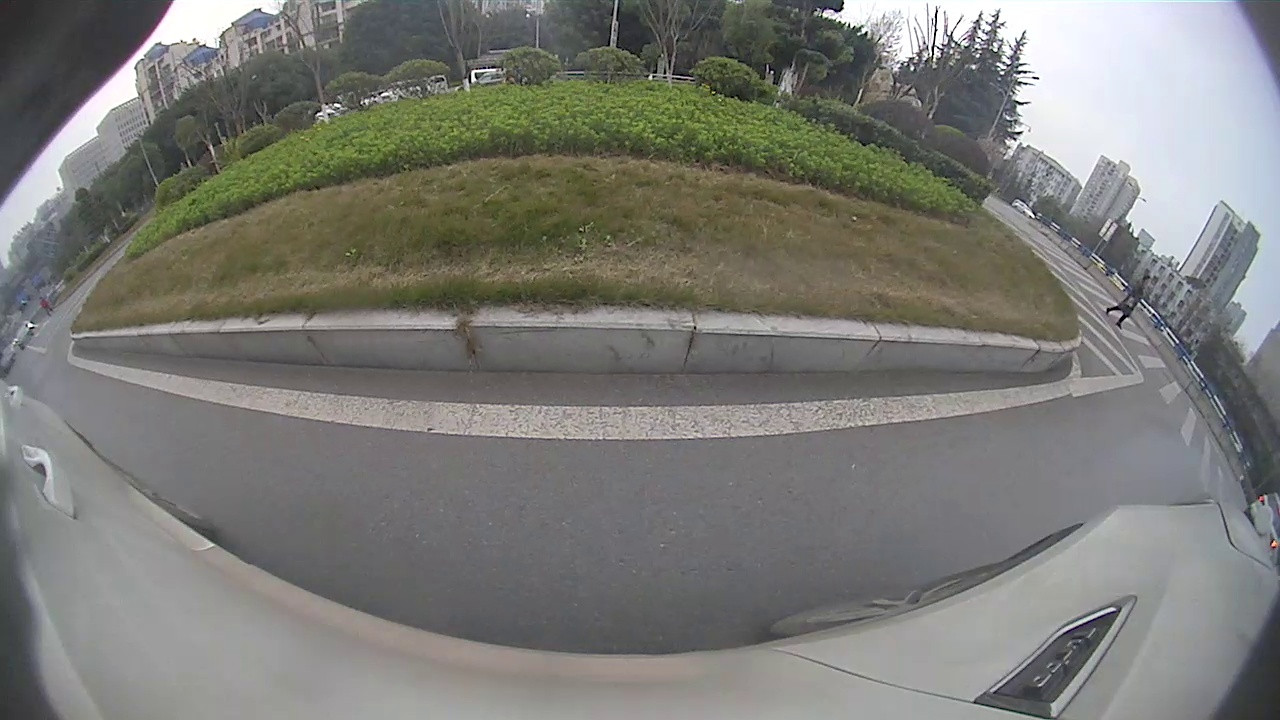car: (1241, 489, 1279, 555)
person: (1116, 273, 1153, 337)
